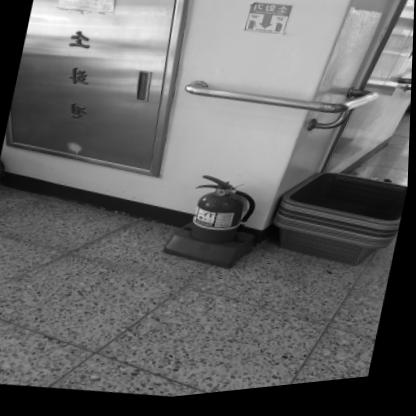FE: (163, 171, 268, 282)
